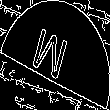M_S: (34, 23, 76, 87)
